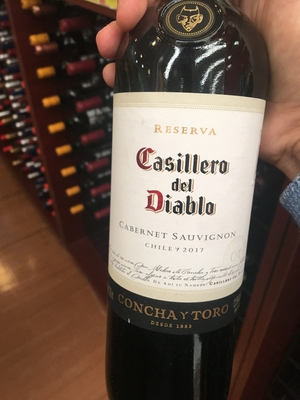casillero del diablo cabernet sauvignon: (88, 26, 262, 400)
